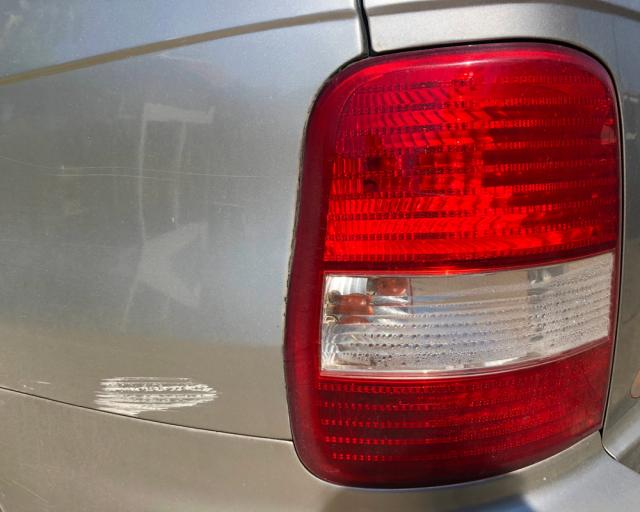scratch: (87, 372, 224, 419)
